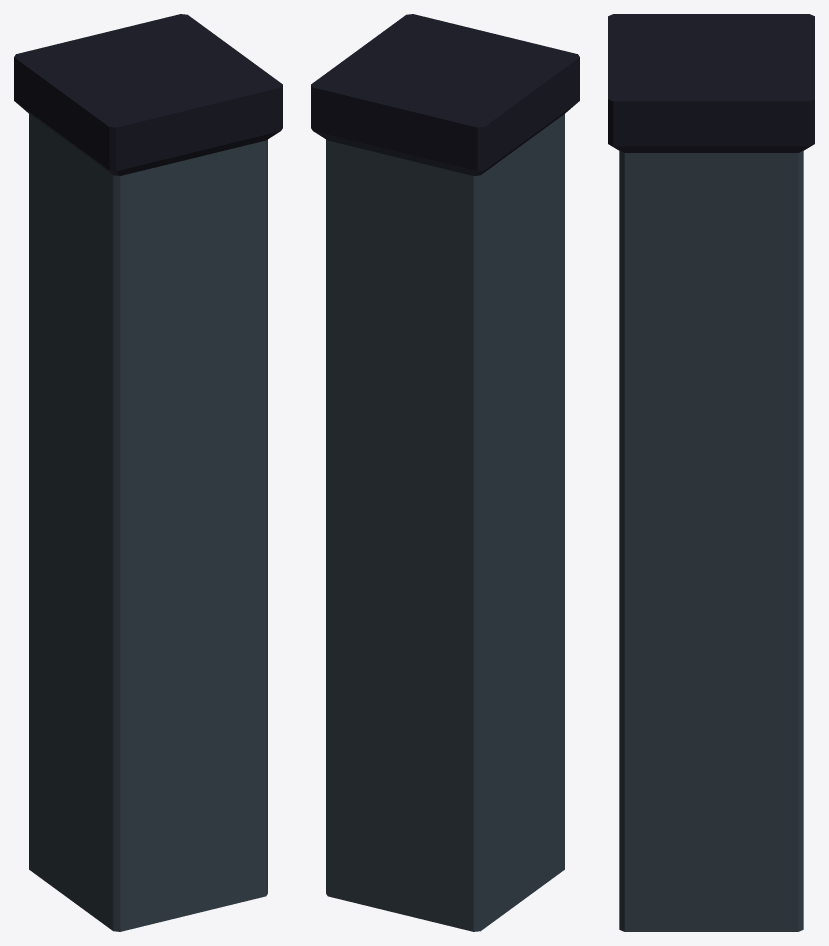
Rendered from B2_filar_up.FBX.
The picture shows the model from 3 angles, left to right: view 1: azimuth 30°, elevation 25°; view 2: azimuth 150°, elevation 25°; view 3: azimuth 270°, elevation 25°; orthographic projection. The views are drawn at different scales.
Visible parts, largest first — view 1: B2_filar_up; view 2: B2_filar_up; view 3: B2_filar_up.
Part boxes in pixels (x1=…): B2_filar_up: x1=14, y1=14, x2=282, y2=931; B2_filar_up: x1=311, y1=14, x2=579, y2=931; B2_filar_up: x1=608, y1=14, x2=814, y2=931.
Bounding box in the file's own units: 67.31 × 300 × 67.31.
